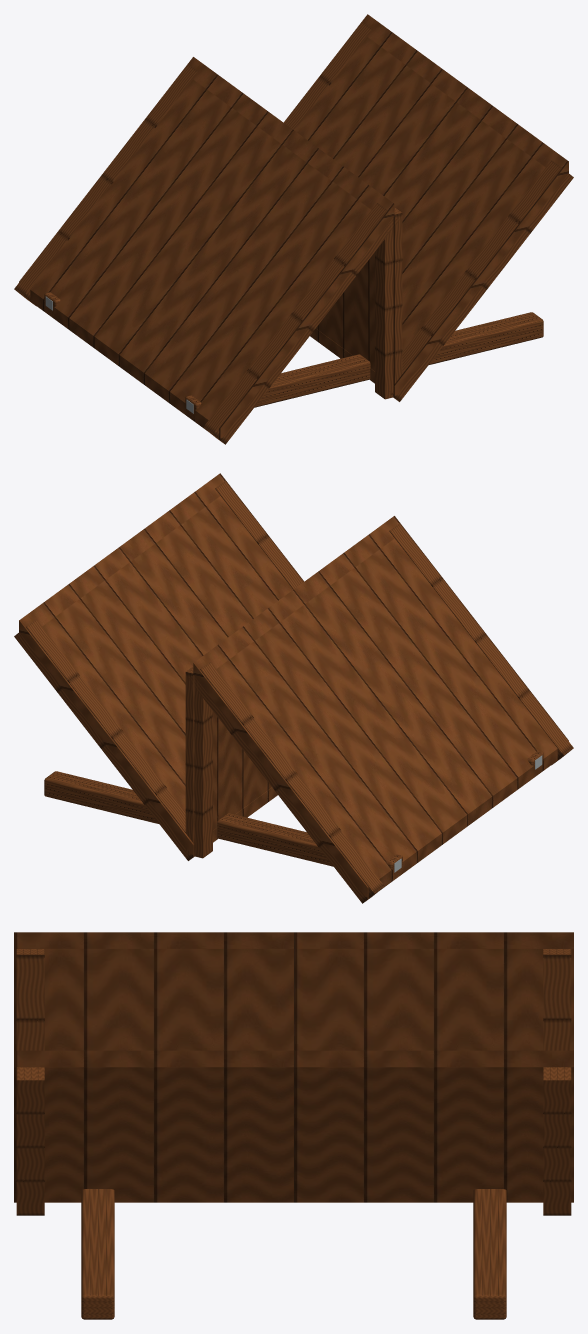
The model's file is modular-survival-base-builder-roof-sawtooth-reinforced-8a17cff4__24311.glb.
3 views of the same model, one above another, from view 1: azimuth 30°, elevation 25°; view 2: azimuth 150°, elevation 25°; view 3: azimuth 270°, elevation 25° (orthographic). The views are drawn at different scales.
Parts seen in each view (by area): view 1: roof-sawtooth-reinforced; view 2: roof-sawtooth-reinforced; view 3: roof-sawtooth-reinforced.
Boxes of the visible parts, x1,y1,x2,y2 form: roof-sawtooth-reinforced: (14, 14, 573, 444); roof-sawtooth-reinforced: (14, 473, 573, 903); roof-sawtooth-reinforced: (14, 932, 573, 1319).
Size of the model in its own units: 2.07 by 1.1 by 2.
Materials: 2 (1 with a texture image).
